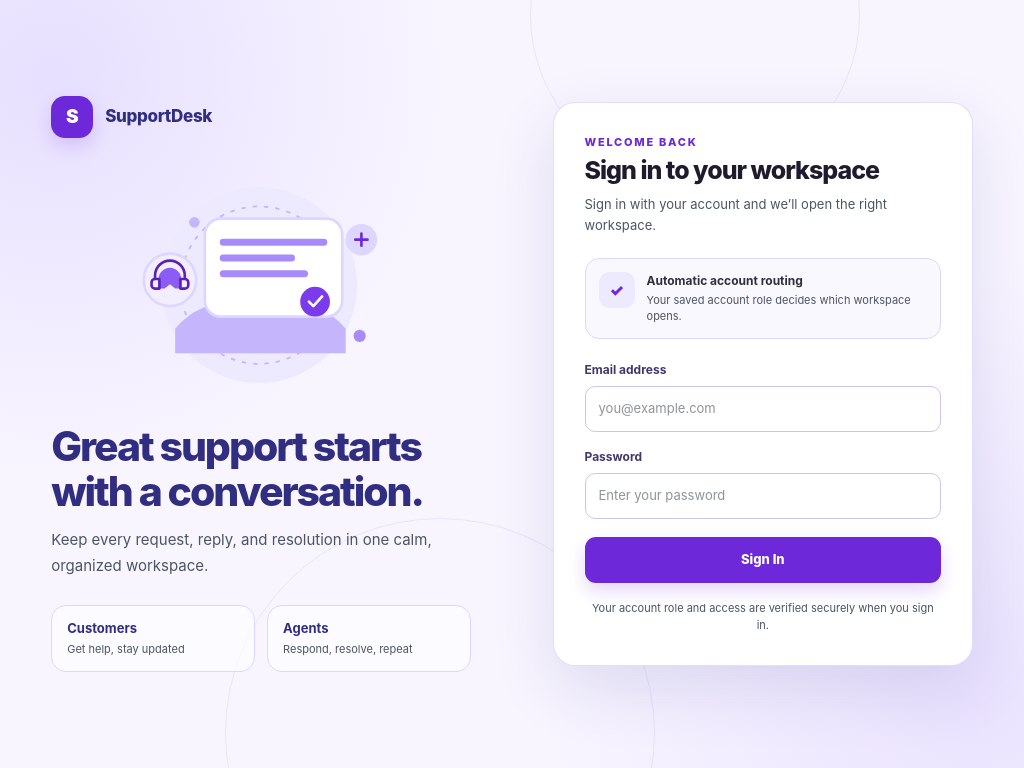
Login Page › shows an error for invalid email
Step 1. Type "invalid-email" into the field labelled "Email address" → (763, 409), box [584,386,941,432]
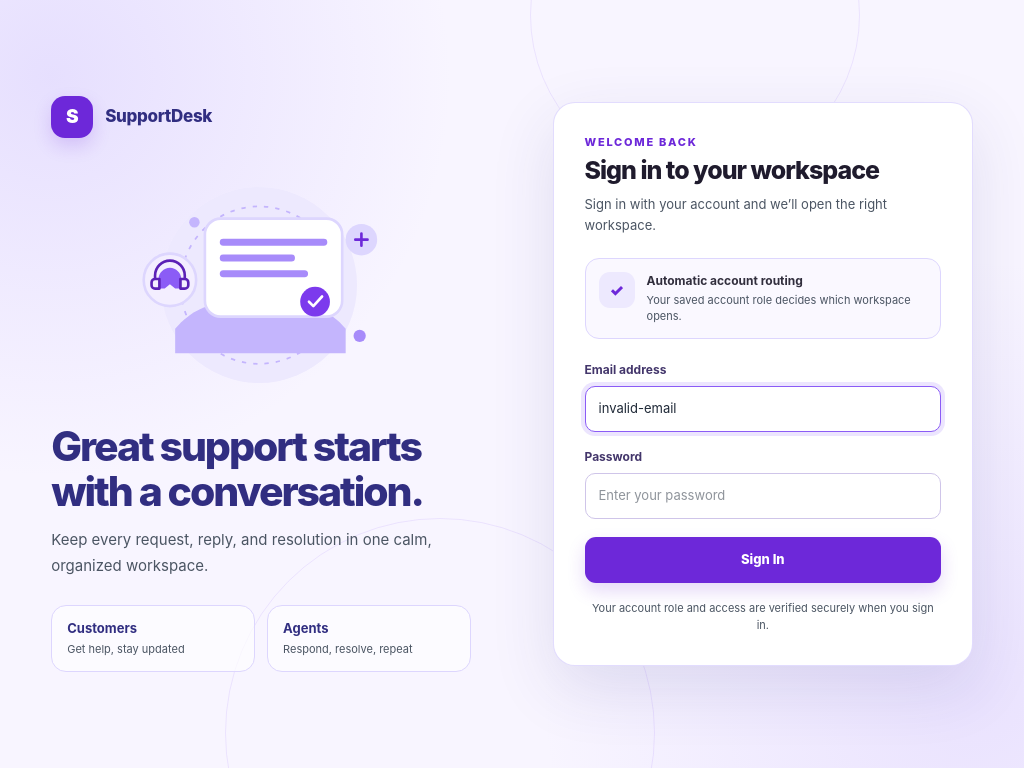
Step 2. Type "password123" into the password field labelled "Password" → (763, 496), box [584,473,941,519]
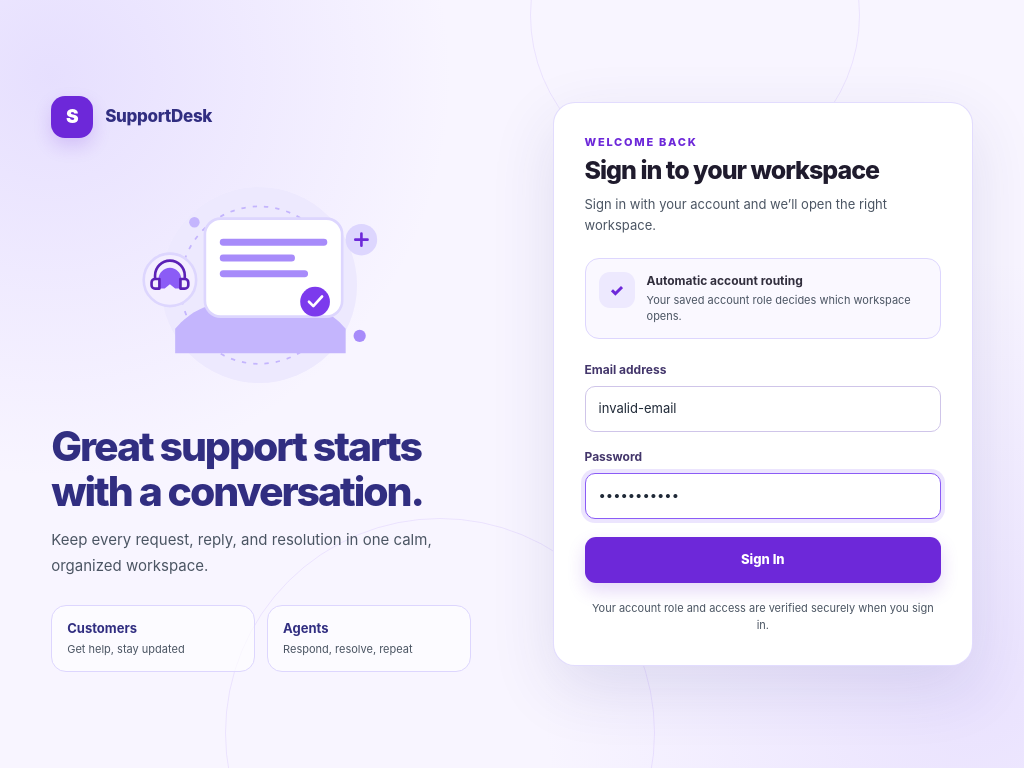
Step 3. Click the button "Sign In" → (763, 560), box [584,537,941,583]
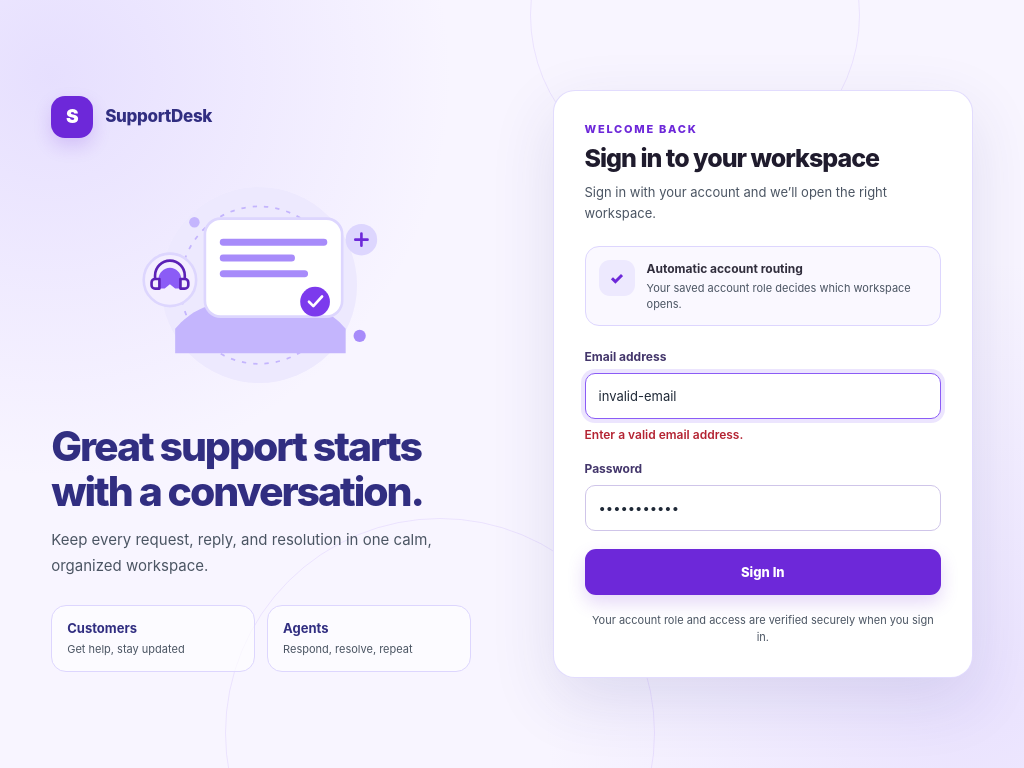
Now the text "Enter a valid email address." is shown, box [584,427,743,442]
